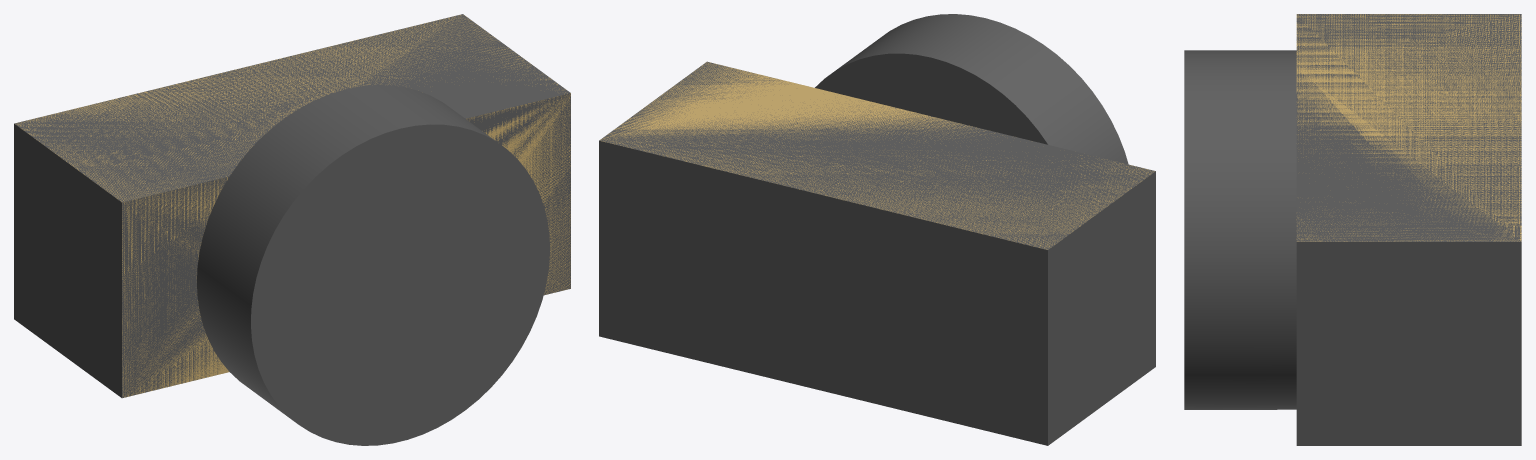
The model's file is step_02.glb.
3 renders of one model, left to right at view 1: azimuth 30°, elevation 25°; view 2: azimuth 150°, elevation 25°; view 3: azimuth 270°, elevation 25°, orthographic. The views are drawn at different scales.
Visible parts, largest first — view 1: part__tray latch, added__tray latch; view 2: part__tray latch, added__tray latch; view 3: part__tray latch, added__tray latch.
Boxes of the visible parts, x1,y1,x2,y2 form: part__tray latch: [14, 14, 570, 445]; added__tray latch: [15, 15, 570, 397]; part__tray latch: [599, 14, 1155, 445]; added__tray latch: [600, 62, 1154, 249]; part__tray latch: [1184, 14, 1521, 445]; added__tray latch: [1296, 14, 1521, 241].
Bounding box in the file's own units: 24 × 16 × 15.
